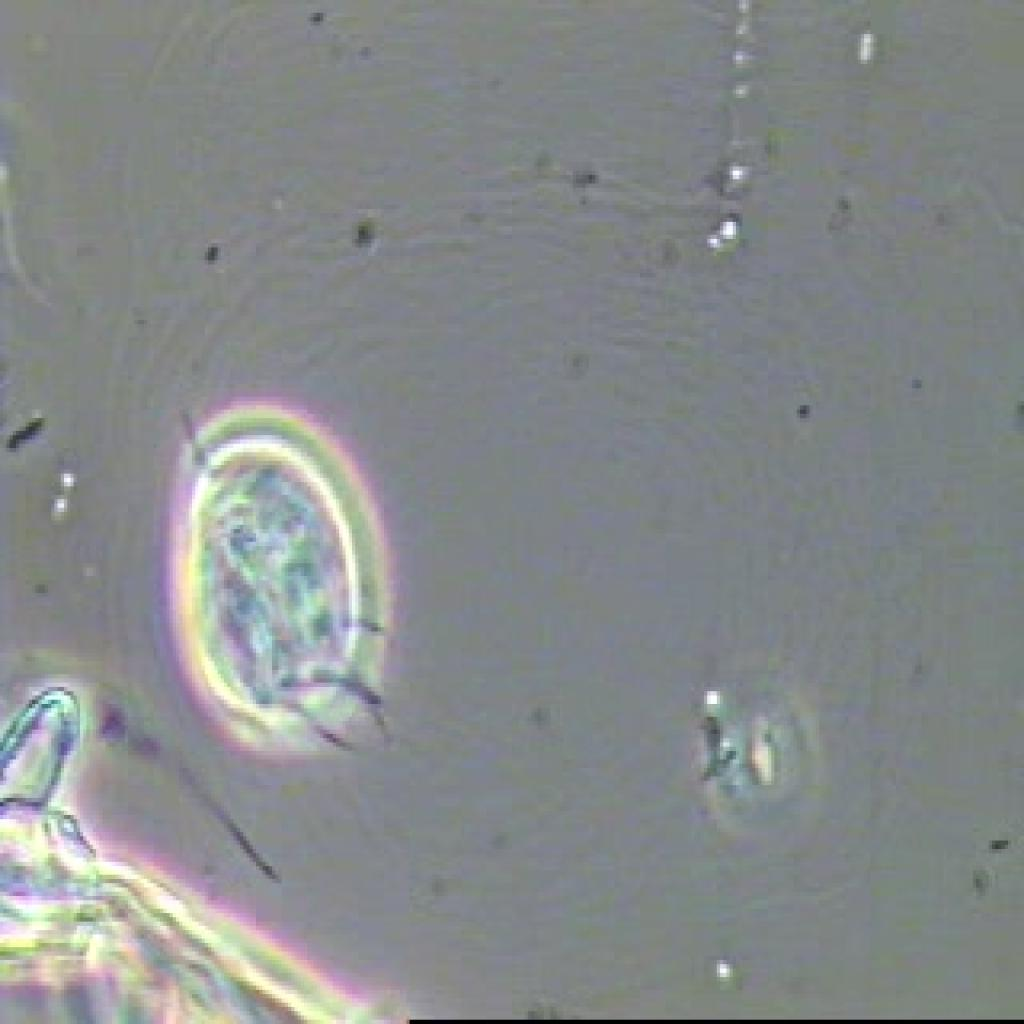Aspidisca: (156, 373, 426, 779)
